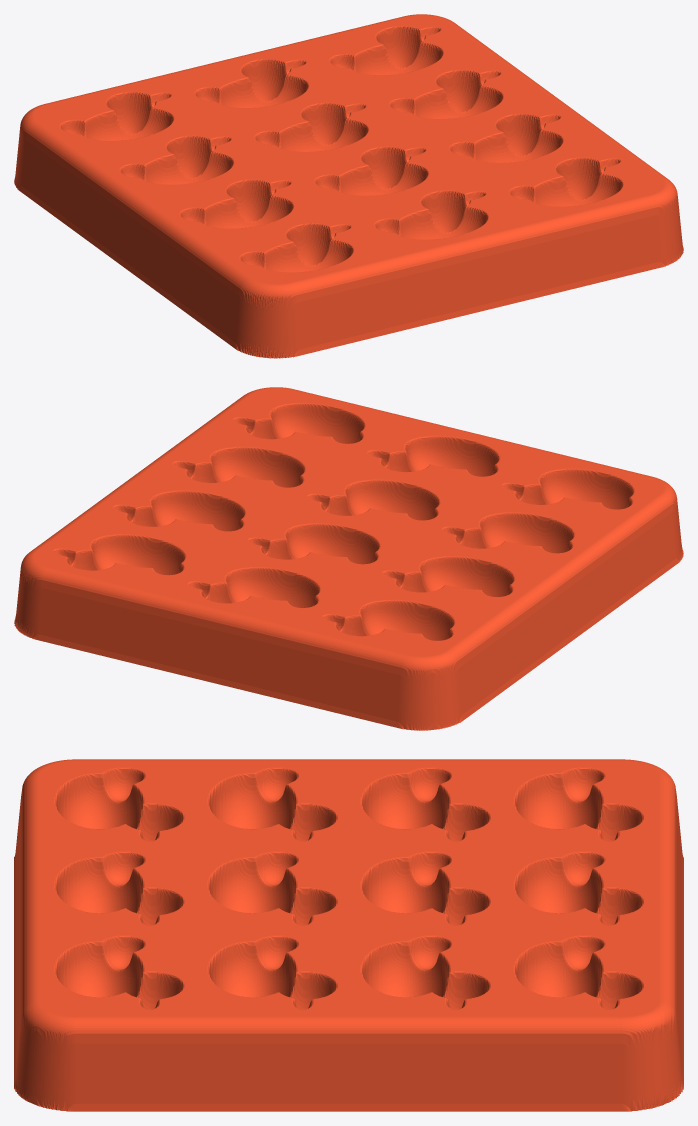
The model's file is mold.glb.
The picture shows the model from 3 angles, top to bottom: view 1: azimuth 30°, elevation 25°; view 2: azimuth 150°, elevation 25°; view 3: azimuth 270°, elevation 25°; orthographic projection. The views are drawn at different scales.
Visible parts, largest first — view 1: geometry_0; view 2: geometry_0; view 3: geometry_0.
Part boxes in pixels (x1,y1,x2,y2): geometry_0: (14,14,683,358); geometry_0: (14,387,683,730); geometry_0: (14,759,683,1111).
Size of the model in its own units: 0.0957 by 0.0136 by 0.098.
